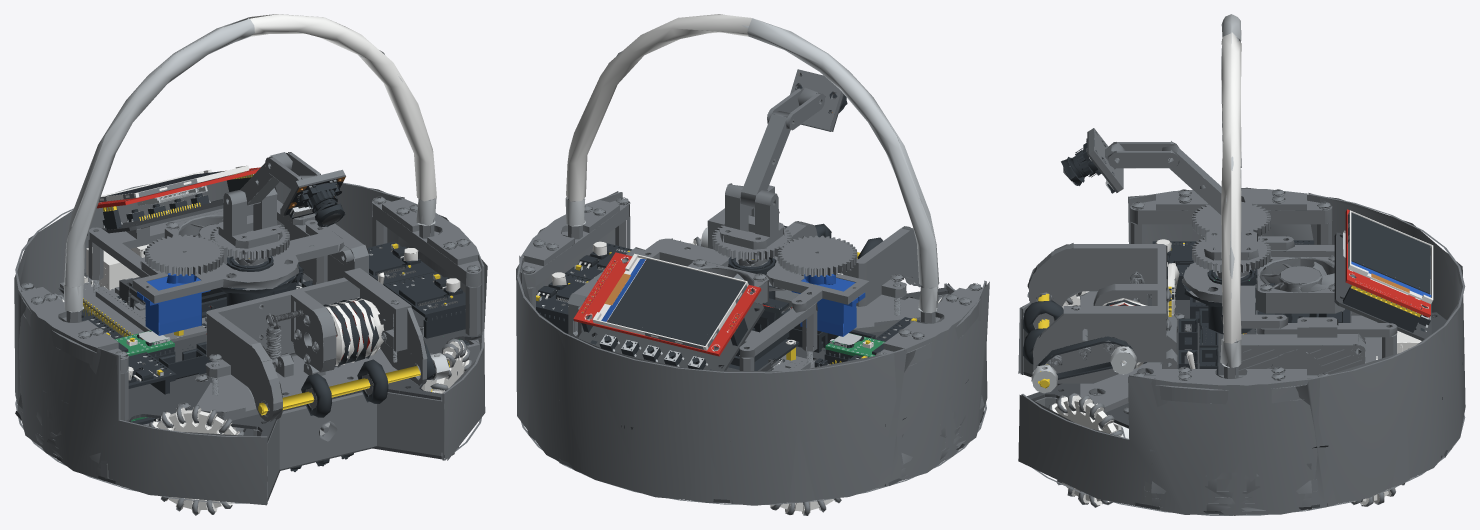
File: xlc-innovation-2021.glb
3 views of the same model, side by side, from view 1: azimuth 30°, elevation 25°; view 2: azimuth 150°, elevation 25°; view 3: azimuth 270°, elevation 25° (orthographic).
Visible parts, largest first — view 1: Robot visual; view 2: Robot visual; view 3: Robot visual.
Part boxes in pixels (left/top/right/bottom): Robot visual: left=14, top=14, right=487, bottom=515; Robot visual: left=516, top=14, right=989, bottom=515; Robot visual: left=1018, top=14, right=1465, bottom=515.
Size of the model in its own units: 0.176 by 0.1704 by 0.168.
